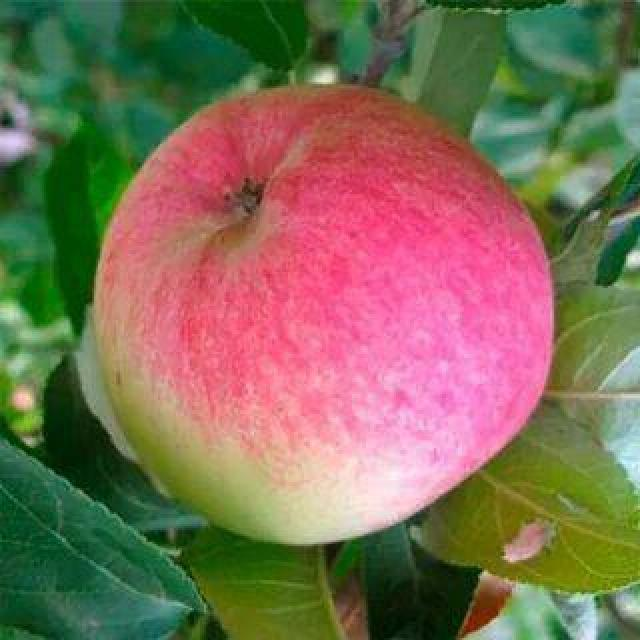Rotten Apple: (96, 82, 556, 546)
